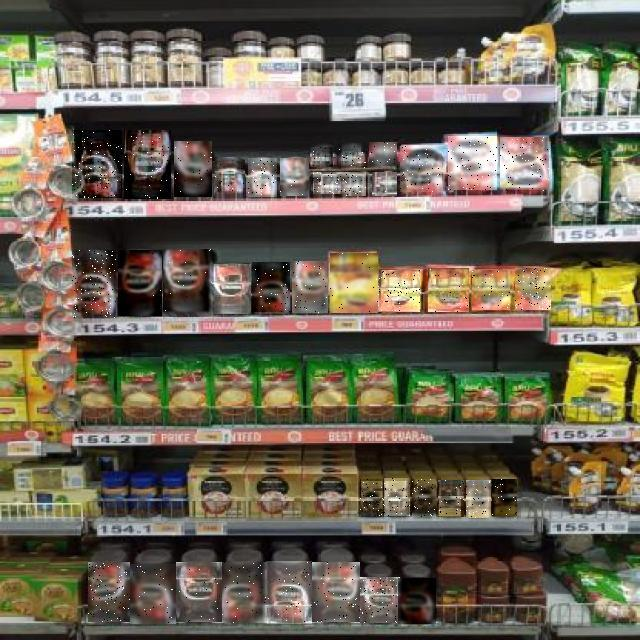Coffee: (73, 131, 123, 199), (164, 250, 214, 316), (124, 130, 171, 199), (73, 250, 117, 318), (118, 250, 162, 316), (266, 561, 312, 624), (330, 253, 378, 313), (312, 563, 360, 623), (222, 562, 268, 623), (176, 563, 222, 623), (130, 564, 176, 624), (448, 136, 497, 190), (500, 138, 549, 192), (88, 563, 130, 623), (174, 141, 212, 197), (212, 264, 251, 314), (401, 146, 443, 192), (253, 263, 291, 313), (292, 261, 328, 313), (360, 577, 400, 623), (428, 268, 469, 312), (378, 271, 420, 313), (398, 578, 436, 624), (473, 270, 511, 310), (515, 268, 551, 310), (215, 158, 245, 198), (248, 158, 277, 197), (280, 158, 309, 196), (385, 478, 411, 516), (439, 480, 465, 517), (466, 480, 491, 518), (361, 479, 385, 518), (492, 479, 517, 516), (413, 480, 437, 518), (337, 145, 367, 169), (369, 142, 397, 166), (313, 172, 342, 194), (372, 172, 397, 196), (343, 172, 367, 196), (310, 147, 333, 167)
